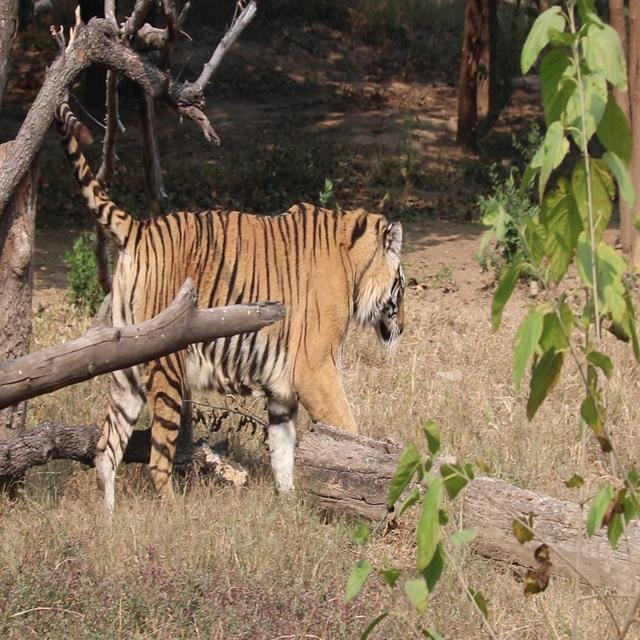tiger: (50, 98, 406, 521)
